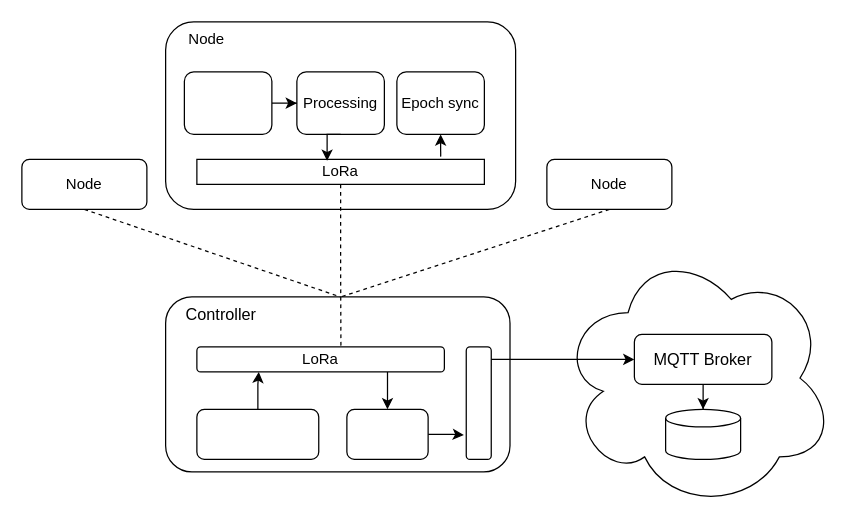
Image size: 856x531. Some labels were removed from this diagram. The shapes that lost their labels are listed below. From the top down, each one's centre as x and y in pixels, then its label:
At point (227, 102): "Collecting".
At point (478, 402): "WiFi".
At point (257, 433): "Epoch broadcast".
At point (387, 433): "MQTT".
At point (702, 433): "DB".
